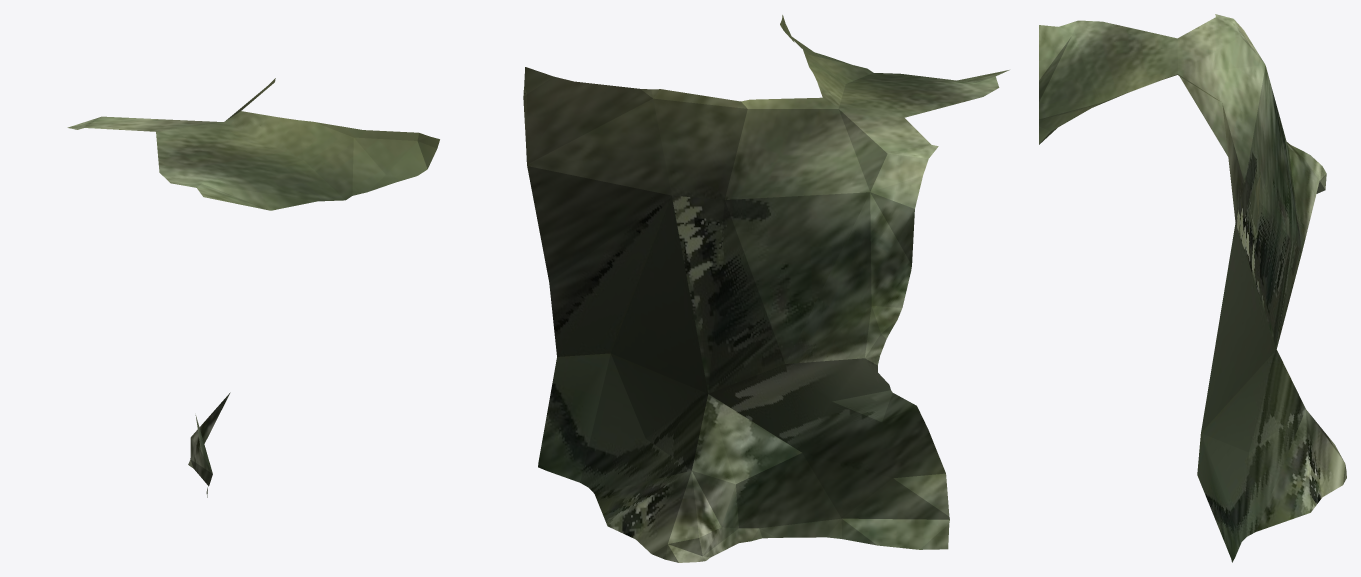
The picture shows the model from 3 angles, left to right: view 1: azimuth 30°, elevation 25°; view 2: azimuth 150°, elevation 25°; view 3: azimuth 270°, elevation 25°; orthographic projection. The views are drawn at different scales.
Size of the model in its own units: 2.95 by 2.95 by 2.2.
3 materials, 3 textured.
